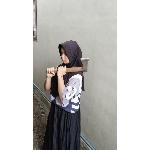Kapak: (44, 56, 92, 78)
